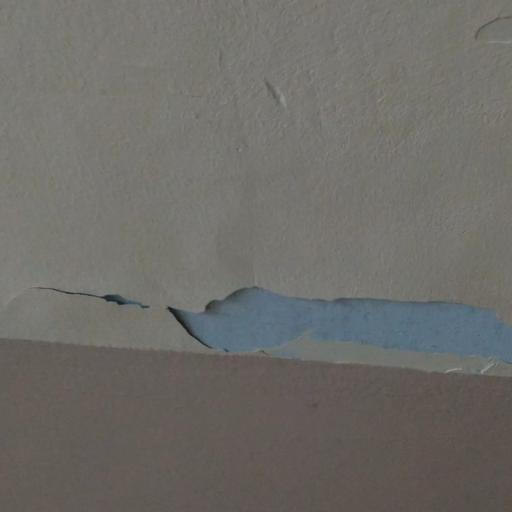peeling: (37, 264, 512, 380)
